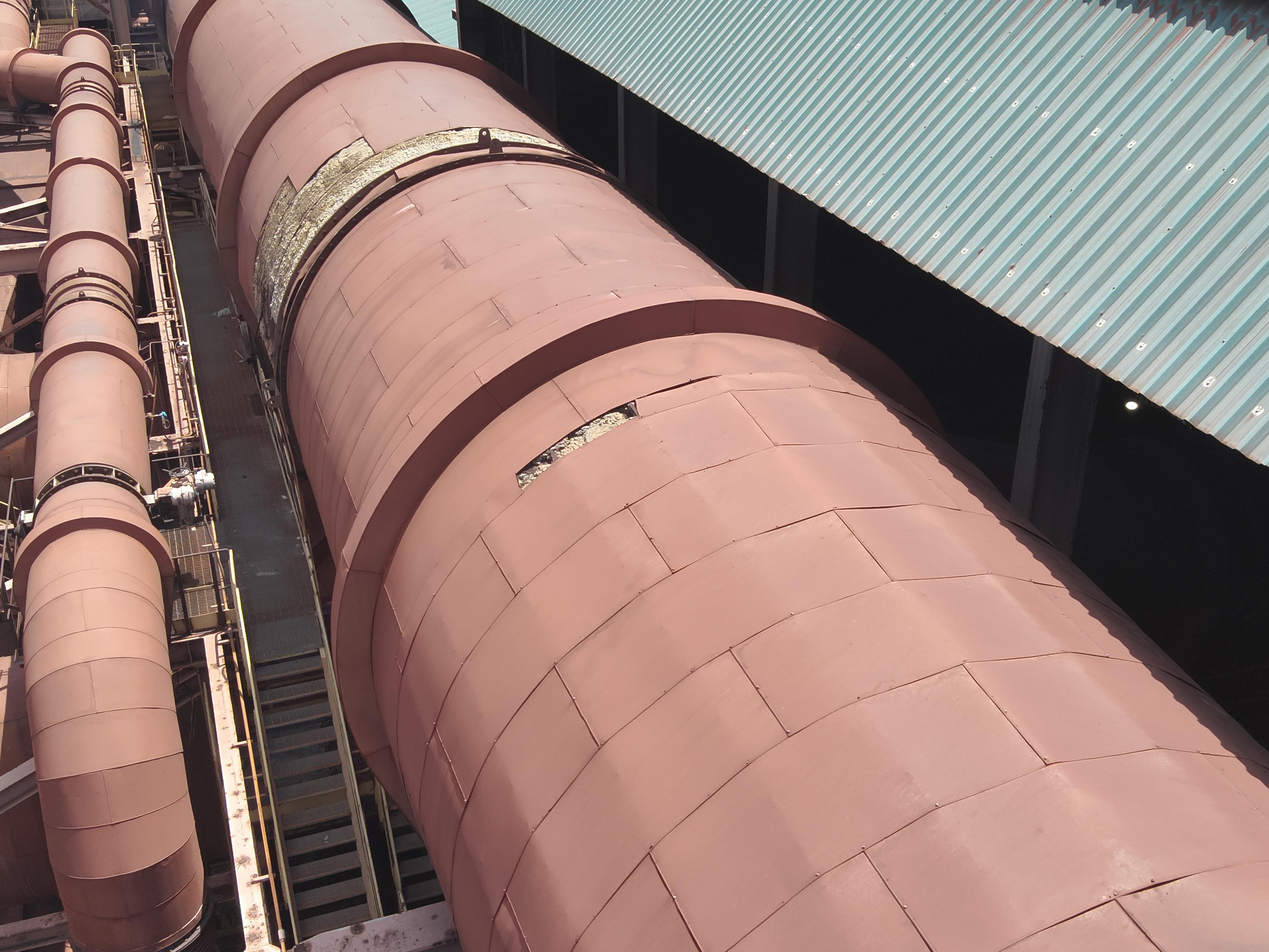Failures: (206, 87, 596, 374), (500, 370, 655, 522)
